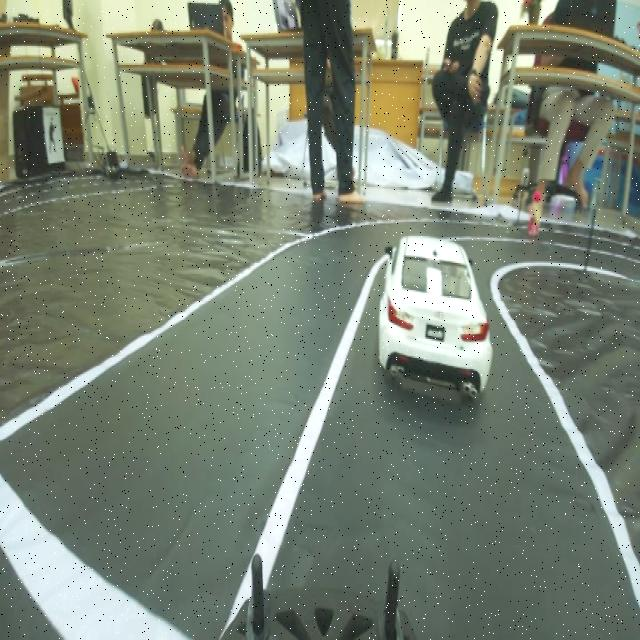car: (380, 215, 496, 414)
